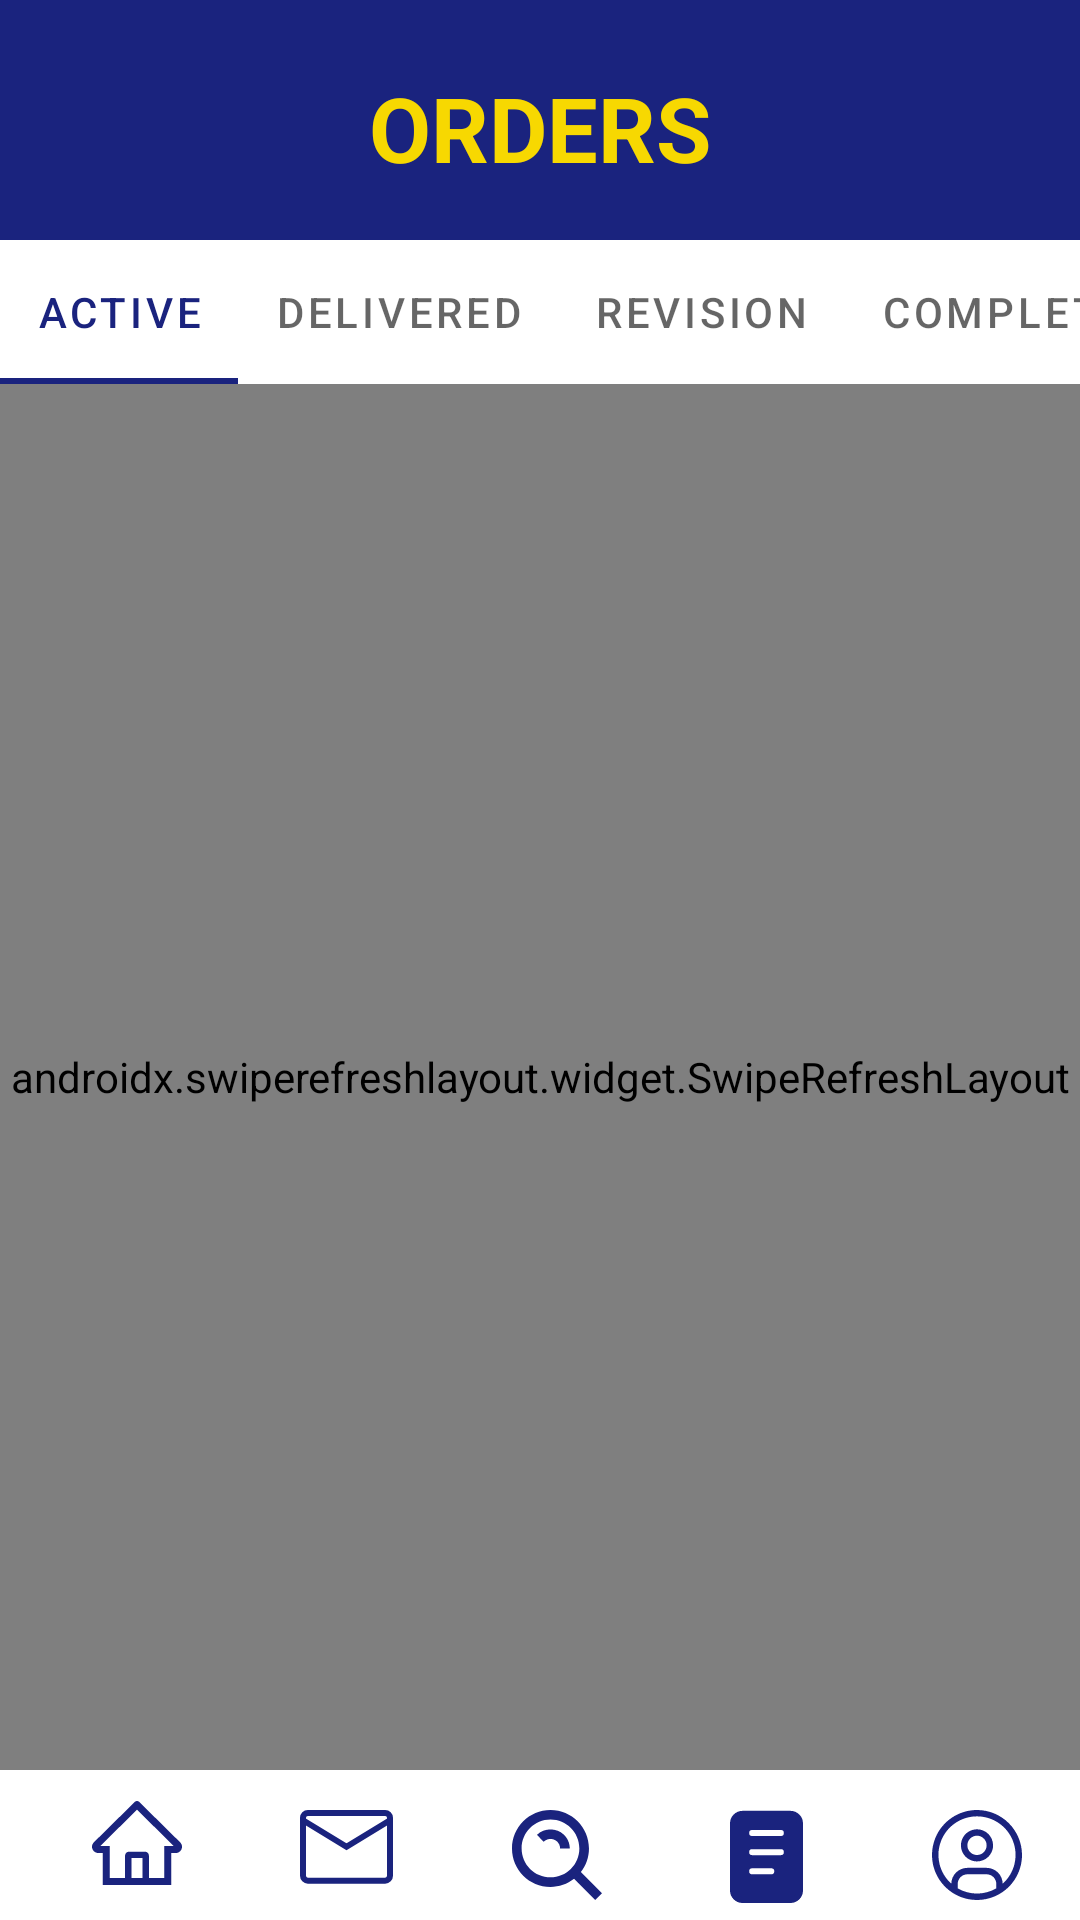

Locate icon controls on the screen. Image size 1080w x 1920h, boxes as (x1, y1, x2, y2).
home: (92, 1801, 182, 1885)
message: (300, 1810, 393, 1884)
order: (730, 1810, 803, 1903)
profile: (932, 1810, 1022, 1900)
searchh: (512, 1810, 602, 1900)
